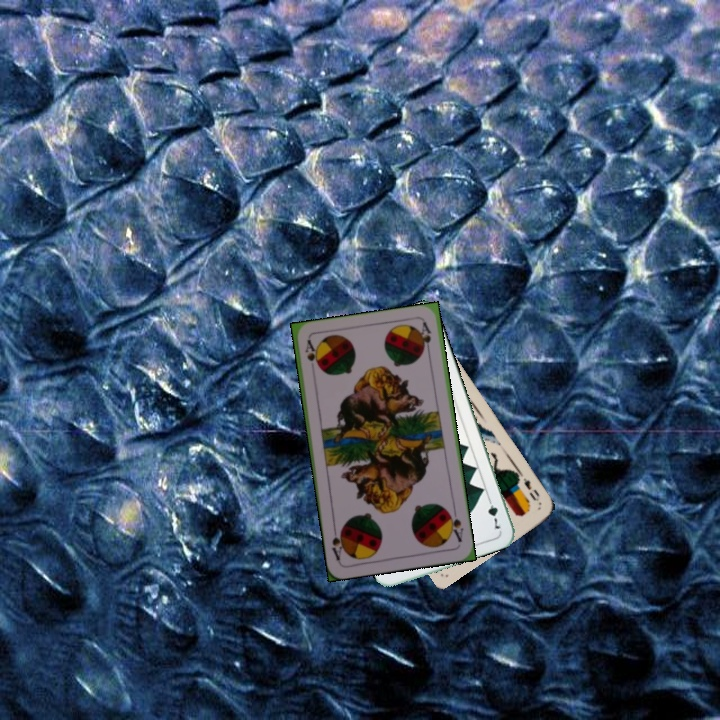EO: (514, 472, 542, 504)
G7: (483, 493, 504, 533)
SA: (444, 505, 466, 545), (301, 336, 320, 369)
